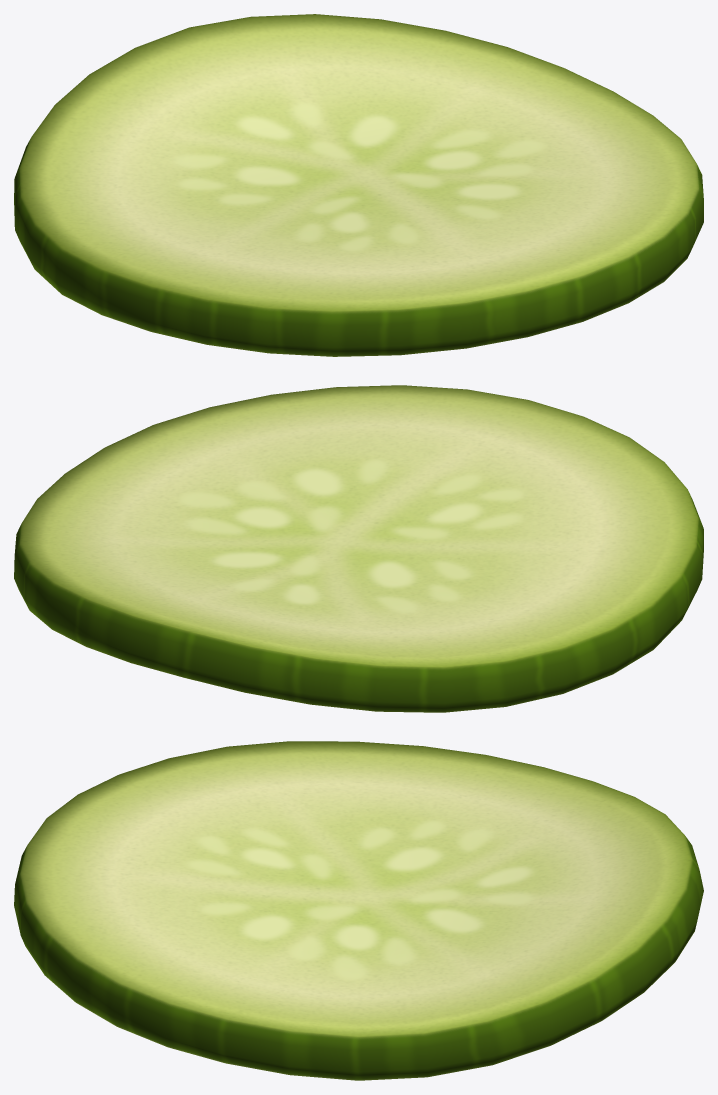
The model's file is CUCUMBER.obj.
3 views of the same model, one above another, from view 1: azimuth 30°, elevation 25°; view 2: azimuth 150°, elevation 25°; view 3: azimuth 270°, elevation 25° (orthographic).
Parts seen in each view (by area): view 1: object_0; view 2: object_0; view 3: object_0.
Boxes of the visible parts, bbox=[...] form: object_0: bbox=[14, 14, 703, 356]; object_0: bbox=[14, 385, 703, 712]; object_0: bbox=[14, 741, 703, 1080].
Size of the model in its own units: 29.92 by 3.83 by 30.14.
Materials: 1 (1 with a texture image).
